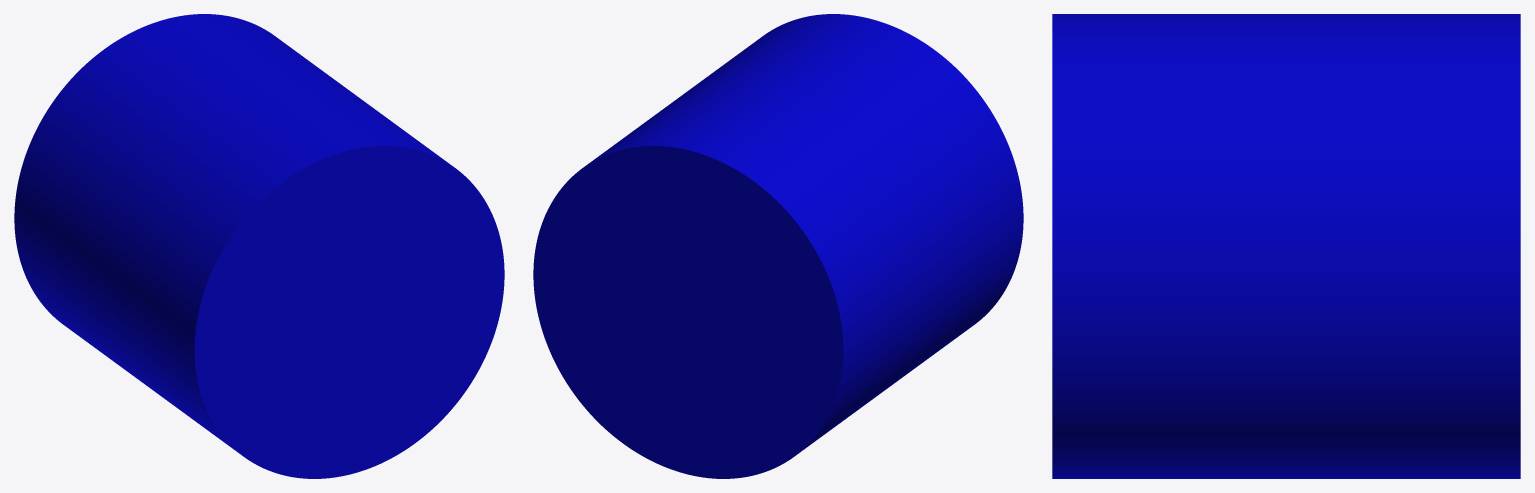
Rendered from blue.obj.
The picture shows the model from 3 angles, left to right: view 1: azimuth 30°, elevation 25°; view 2: azimuth 150°, elevation 25°; view 3: azimuth 270°, elevation 25°; orthographic projection. The views are drawn at different scales.
Visible parts, largest first — view 1: blue; view 2: blue; view 3: blue.
Boxes of the visible parts, x1=… form: blue: x1=14, y1=14, x2=504, y2=478; blue: x1=533, y1=14, x2=1023, y2=478; blue: x1=1052, y1=14, x2=1520, y2=478.
Bounding box in the file's own units: 0.3684 × 0.3684 × 0.3707.
